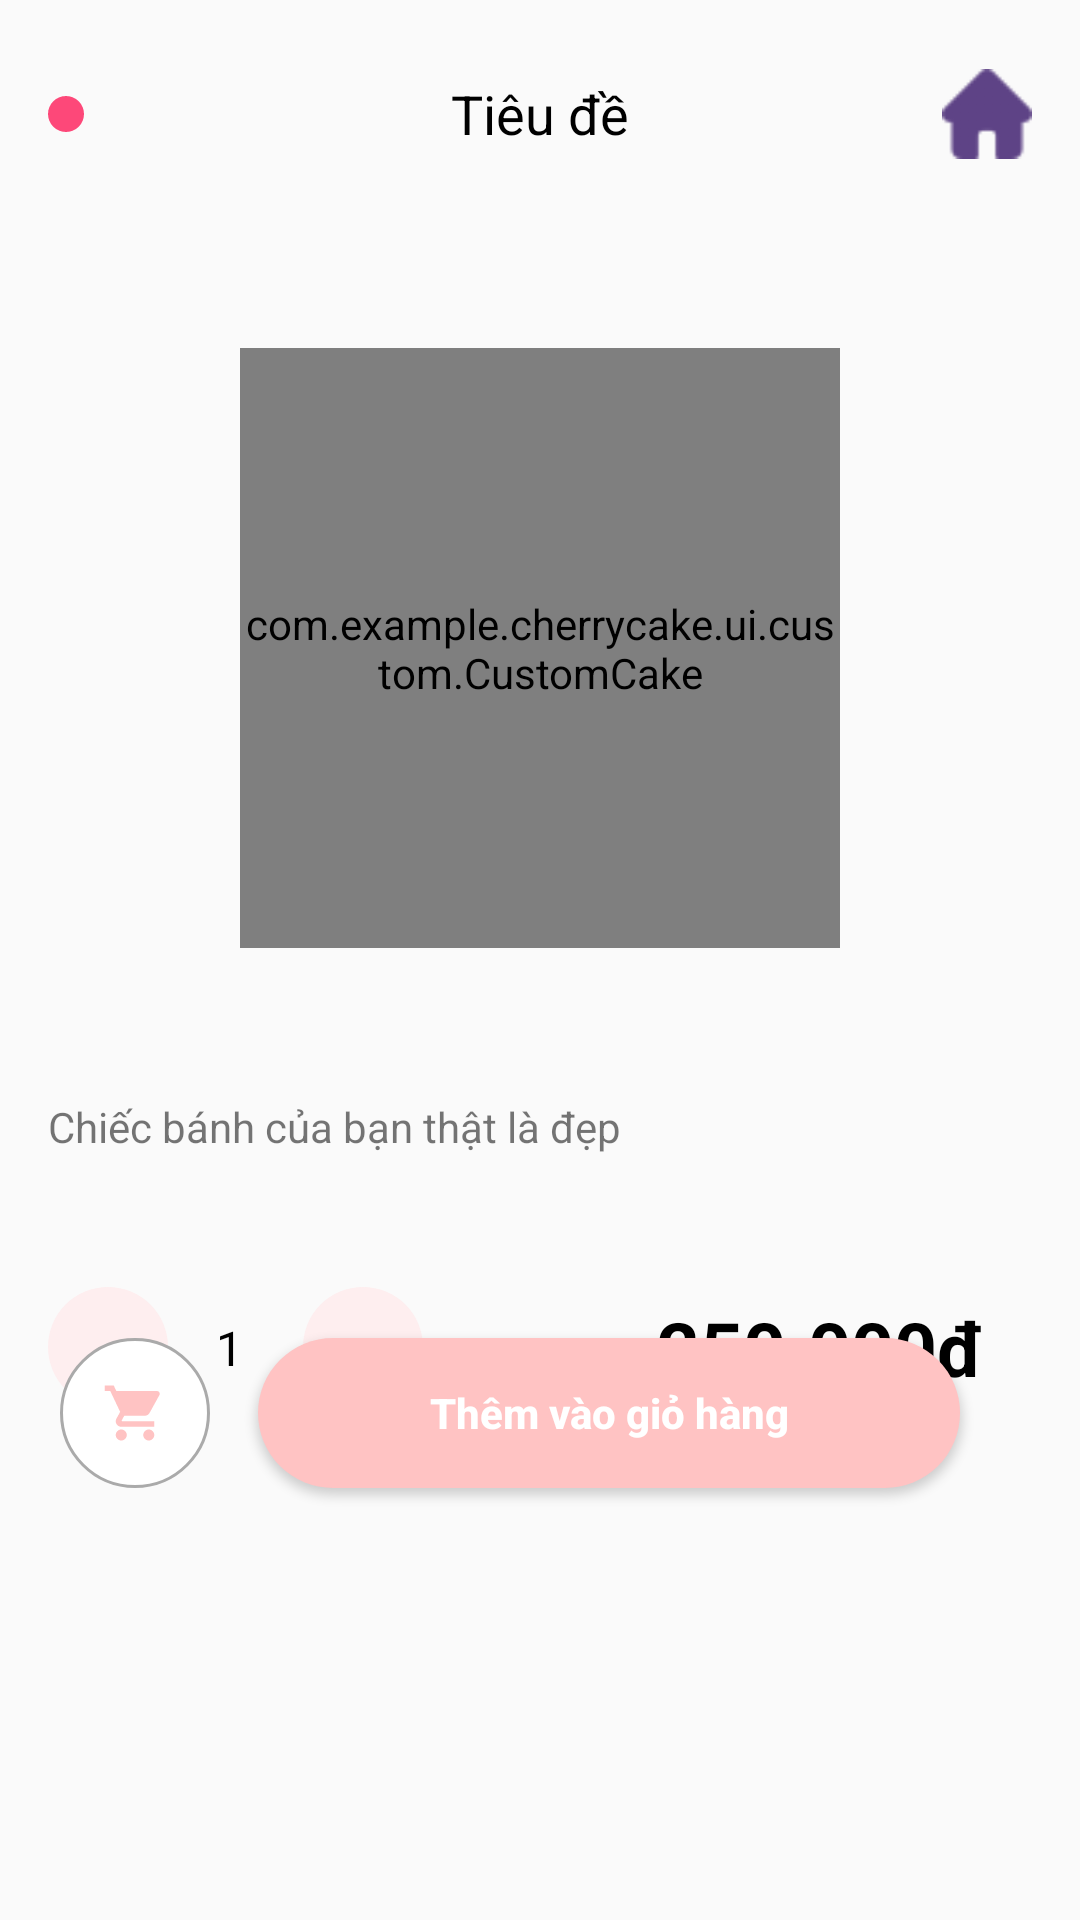

Screen size 1080x1920. Icon name, then its box in pixels as (x1, y1, x2, y2):
cart: (60, 1338, 210, 1488)
home: (942, 69, 1032, 159)
